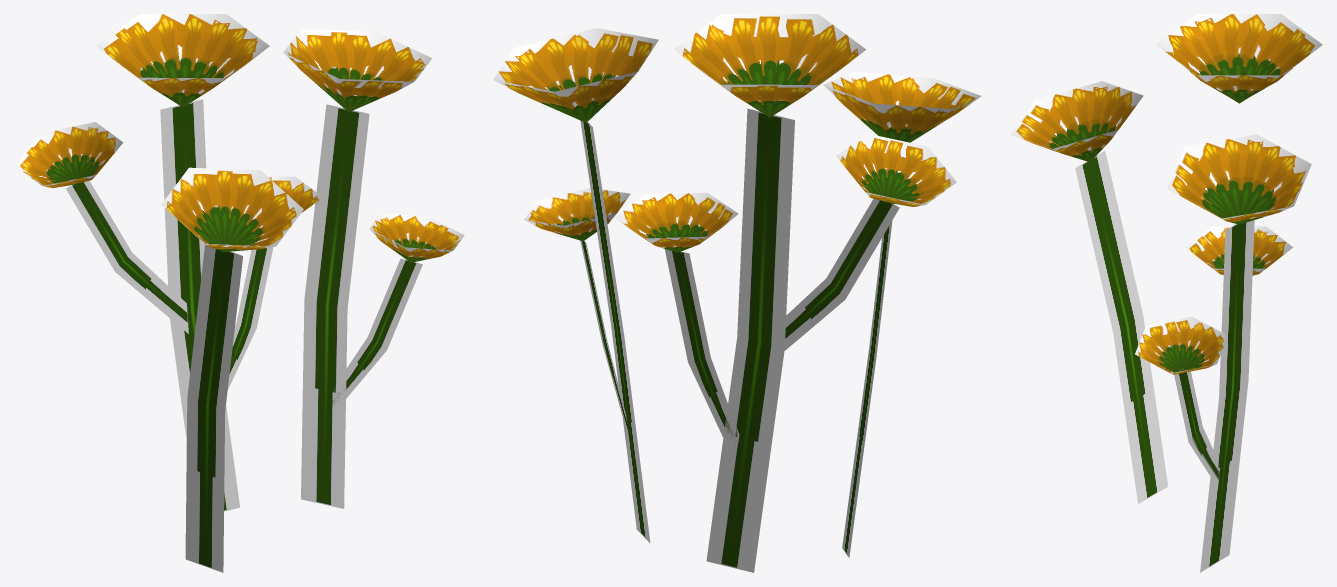
The model's file is Flower2Test1.glb.
3 renders of one model, left to right at view 1: azimuth 30°, elevation 25°; view 2: azimuth 150°, elevation 25°; view 3: azimuth 270°, elevation 25°, orthographic. The views are drawn at different scales.
Visible parts, largest first — view 1: Flower_12b; view 2: Flower_12b; view 3: Flower_12b.
Boxes of the visible parts, x1,y1,x2,y2 form: Flower_12b: (14,14,464,572); Flower_12b: (493,14,981,572); Flower_12b: (1010,14,1322,572).
Size of the model in its own units: 19.7 by 22.81 by 13.9.
1 material, 1 textured.
